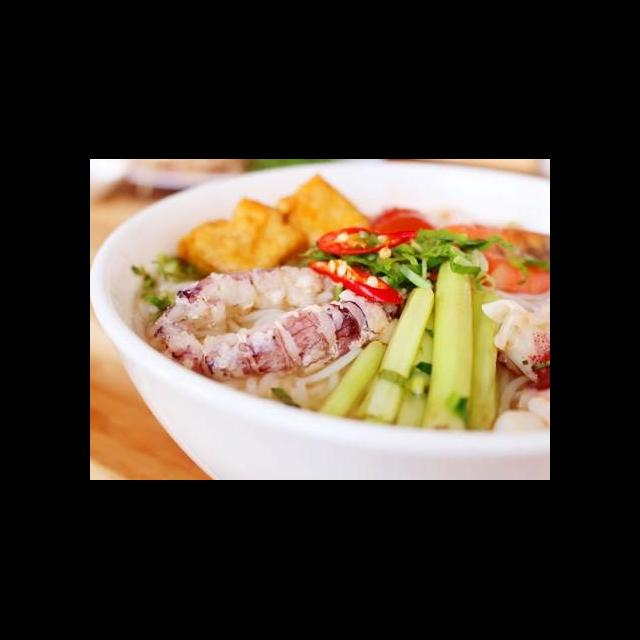bun: (219, 343, 364, 412)
bun hai san: (94, 185, 550, 480)
dau hu: (197, 192, 310, 280), (268, 170, 377, 254)
muc: (477, 294, 550, 394)
tom tit: (143, 262, 412, 381)
